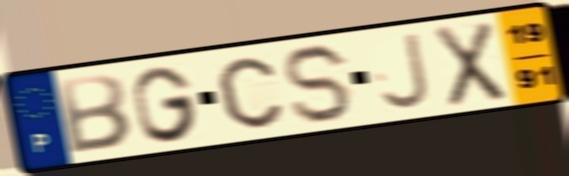B: (56, 71, 134, 156)
C: (214, 54, 286, 131)
G: (130, 64, 202, 145)
J: (378, 30, 434, 113)
S: (281, 41, 357, 127)
X: (431, 18, 509, 110)
